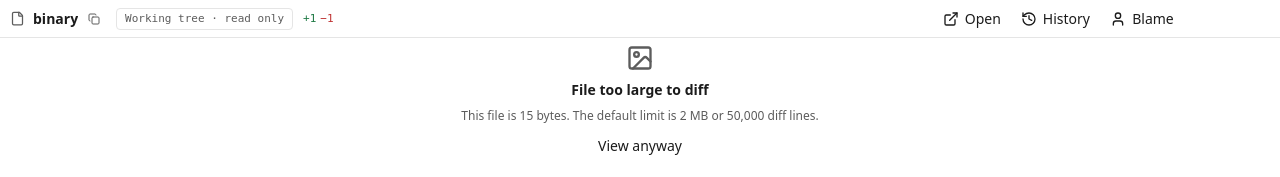
diff and images › explains binary and oversize files
Expected: the heading "File too large to diff" is shown, x1=571 y1=80 x2=709 y2=100
Click the button "View anyway": x=640, y=146 x1=590 y1=132 x2=690 y2=160
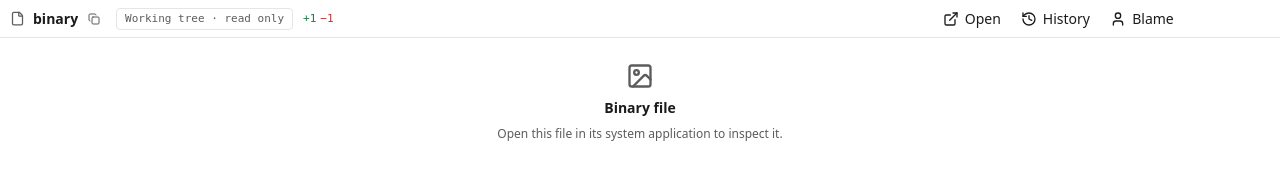
Result: the heading "Binary file" is shown at x1=604 y1=98 x2=676 y2=118
